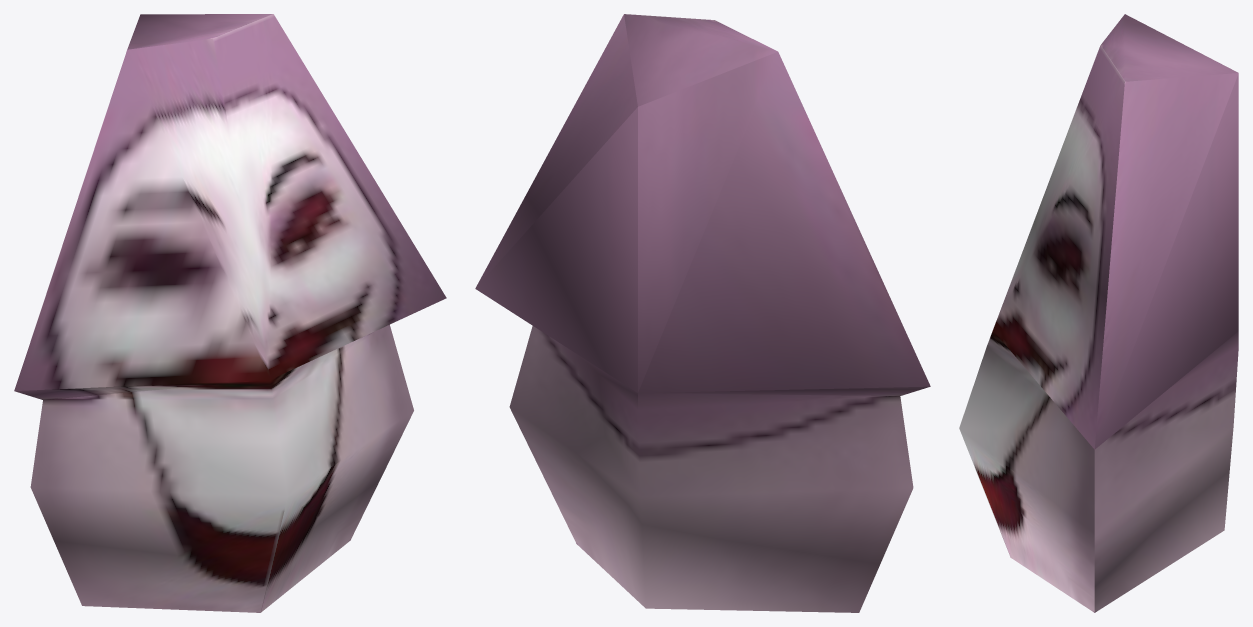
The picture shows the model from 3 angles, left to right: view 1: azimuth 30°, elevation 25°; view 2: azimuth 150°, elevation 25°; view 3: azimuth 270°, elevation 25°; orthographic projection. The views are drawn at different scales.
Parts seen in each view (by area): view 1: twoface; view 2: twoface; view 3: twoface.
Part boxes in pixels (left/top/right/bottom): twoface: left=14, top=14, right=446, bottom=612; twoface: left=475, top=14, right=930, bottom=612; twoface: left=959, top=14, right=1238, bottom=612.
Size of the model in its own units: 1.77 by 2.11 by 1.05.
1 material, 1 textured.
